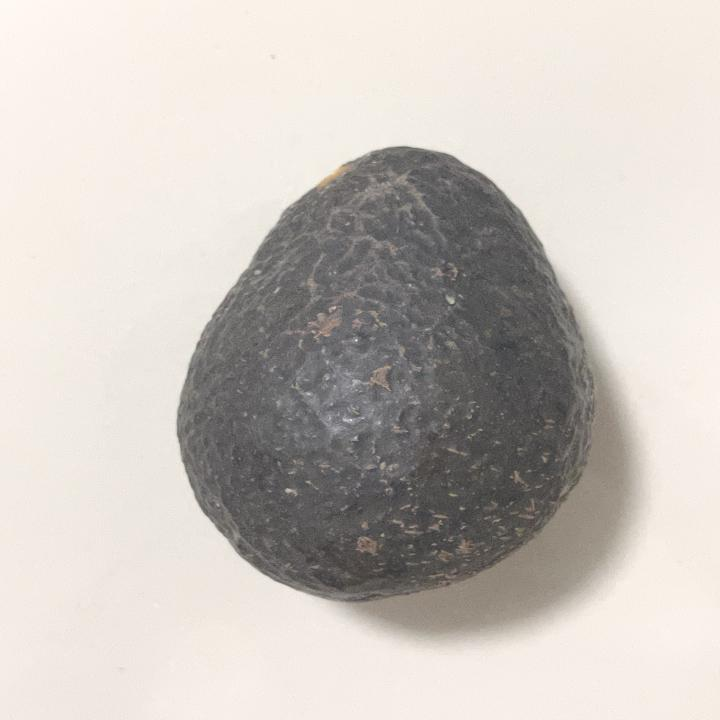Level2: (168, 133, 604, 612)
